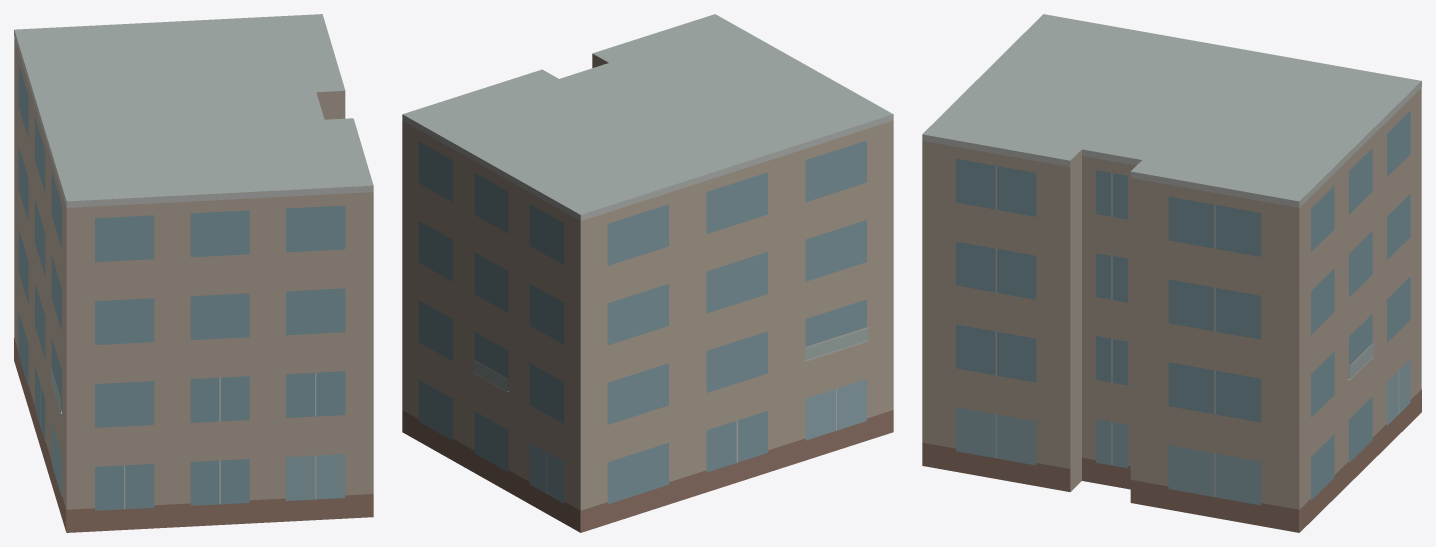
File: survey-upis-32949867.glb
The picture shows the model from 3 angles, left to right: view 1: azimuth 30°, elevation 25°; view 2: azimuth 150°, elevation 25°; view 3: azimuth 270°, elevation 25°; orthographic projection. The views are drawn at different scales.
Visible parts, largest first — view 1: survey-upis-32949867.tmp; view 2: survey-upis-32949867.tmp; view 3: survey-upis-32949867.tmp.
Part boxes in pixels (x1,y1,x2,y2): survey-upis-32949867.tmp: (14, 14, 373, 532); survey-upis-32949867.tmp: (402, 14, 893, 532); survey-upis-32949867.tmp: (922, 14, 1421, 532).
Bounding box in the file's own units: 15.17 × 12.5 × 17.09.
